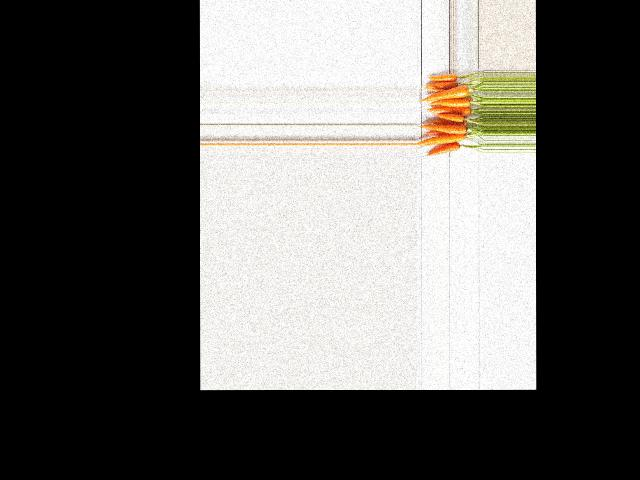carrot: (425, 71, 459, 84)
